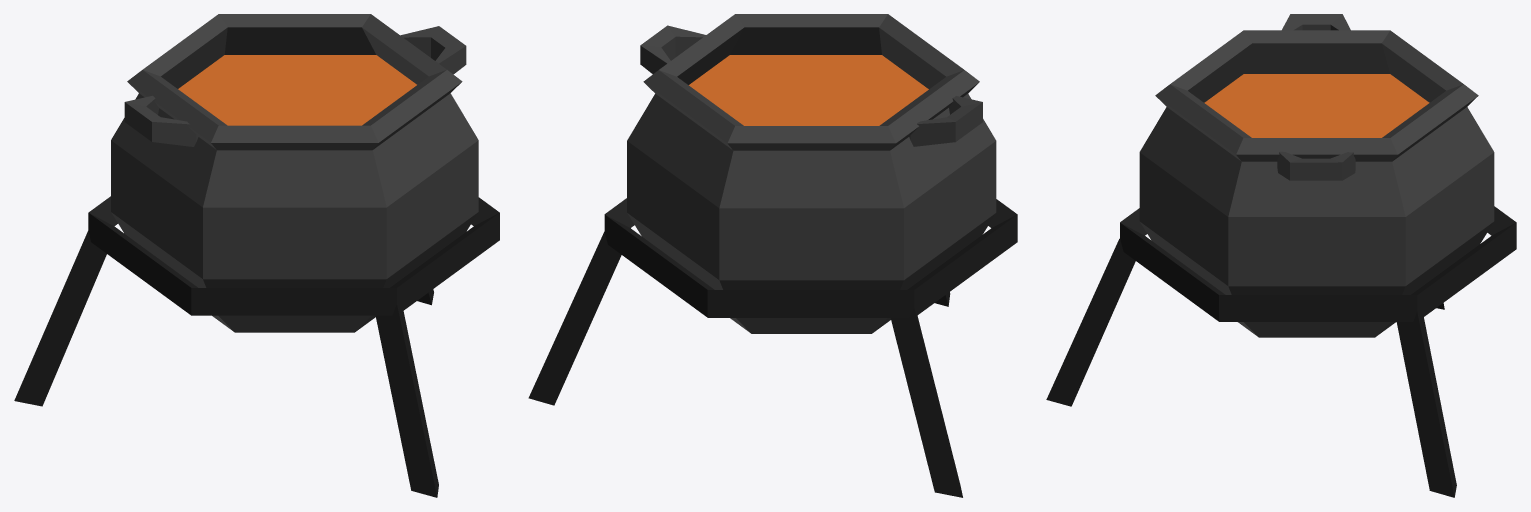
The model's file is cauldron.fbx.
3 views of the same model, side by side, from view 1: azimuth 30°, elevation 25°; view 2: azimuth 150°, elevation 25°; view 3: azimuth 270°, elevation 25° (orthographic). The views are drawn at different scales.
Parts seen in each view (by area): view 1: cauldron_with_footman; view 2: cauldron_with_footman; view 3: cauldron_with_footman.
Part boxes in pixels (left/top/right/bottom): cauldron_with_footman: left=14, top=14, right=499, bottom=497; cauldron_with_footman: left=528, top=14, right=1017, bottom=497; cauldron_with_footman: left=1046, top=14, right=1516, bottom=497.
Size of the model in its own units: 42.54 by 31.08 by 42.11.
